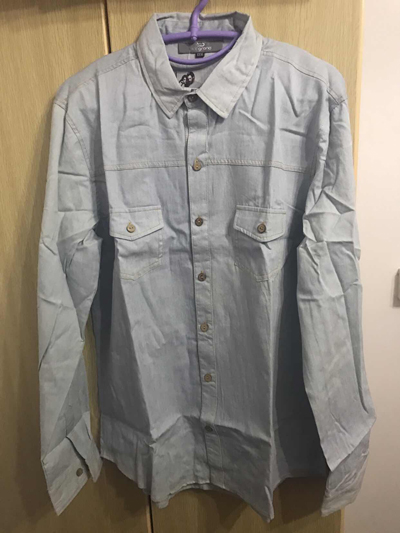shirts: (41, 13, 374, 524)
